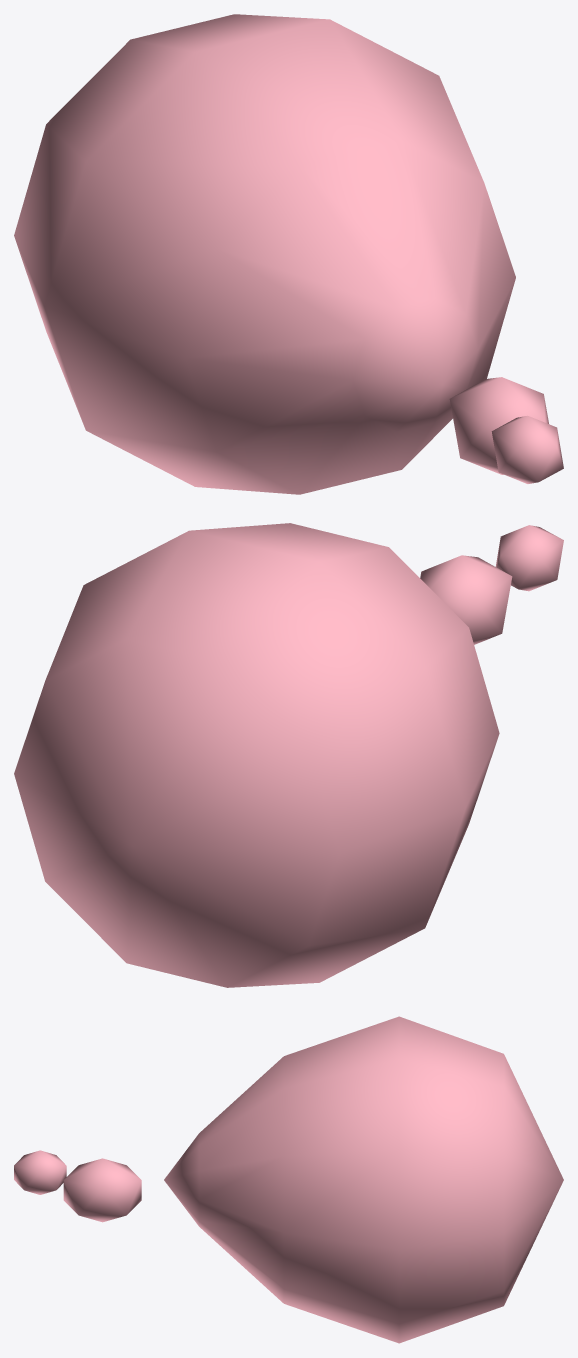
File: paint_glob.glb
The picture shows the model from 3 angles, top to bottom: view 1: azimuth 30°, elevation 25°; view 2: azimuth 150°, elevation 25°; view 3: azimuth 270°, elevation 25°; orthographic projection. The views are drawn at different scales.
Visible parts, largest first — view 1: Glob; view 2: Glob; view 3: Glob.
Part boxes in pixels (bbox=[...]): Glob: bbox=[14, 14, 563, 494]; Glob: bbox=[14, 523, 563, 987]; Glob: bbox=[14, 1016, 563, 1343].
Size of the model in its own units: 0.28 by 0.2663 by 0.4673.
